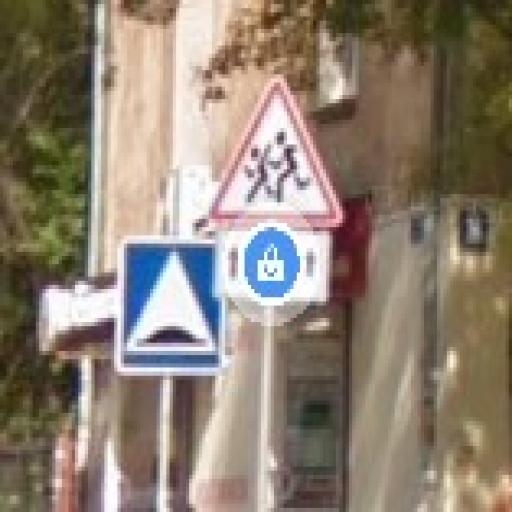traffic_sign: (207, 75, 344, 228), (115, 236, 229, 381)
